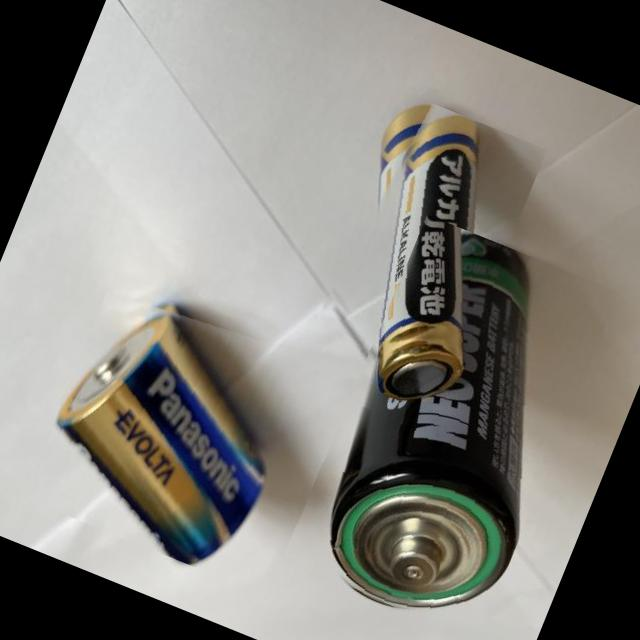Hazard: (279, 211, 618, 640), (22, 274, 316, 578), (290, 90, 546, 422)
